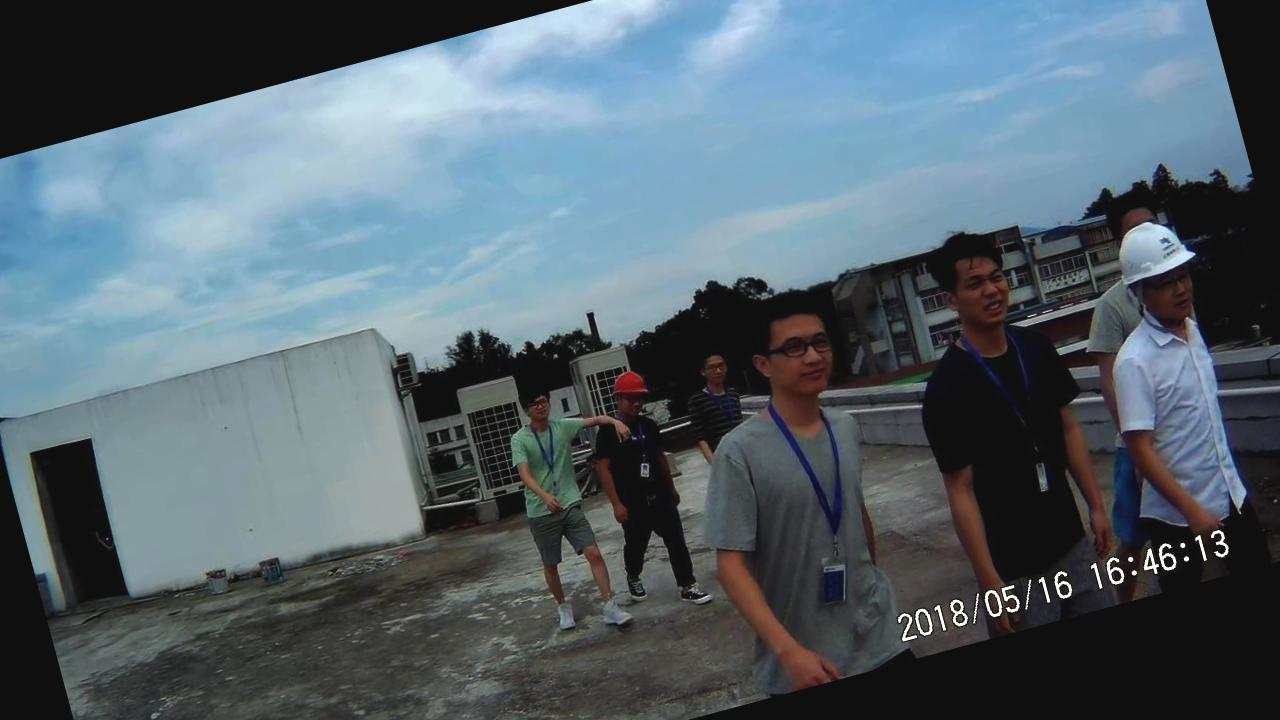helmet: (1105, 213, 1205, 292)
no_vest: (929, 338, 1107, 578), (721, 419, 894, 644), (1112, 328, 1256, 540), (595, 412, 674, 518), (513, 419, 586, 519)
person: (656, 282, 935, 702), (876, 205, 1134, 641), (1066, 184, 1280, 587), (495, 368, 637, 645), (575, 354, 719, 622)
